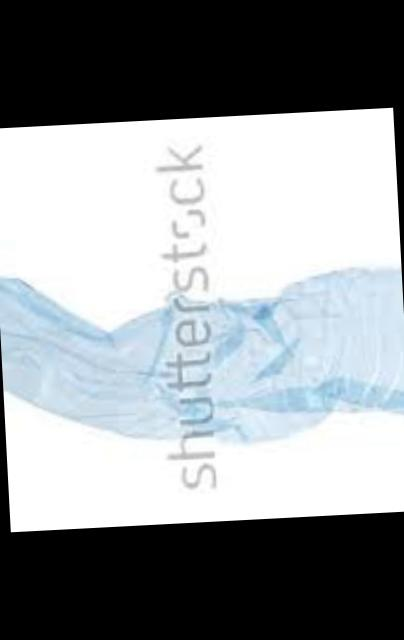plastic: (0, 271, 404, 445)
